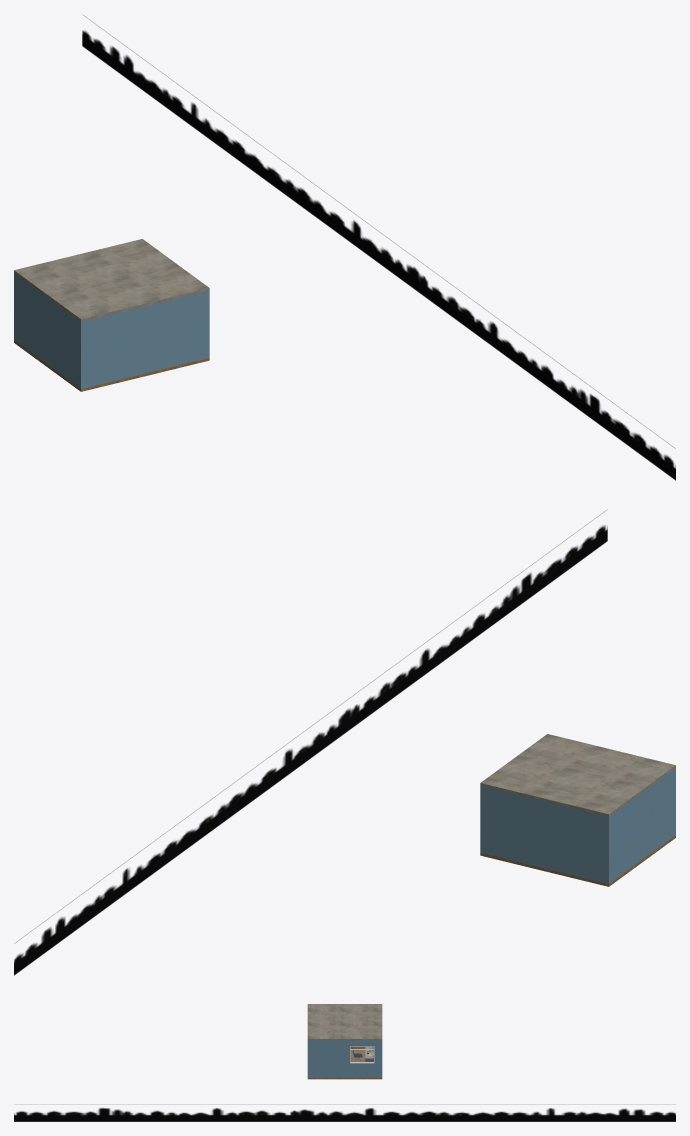
Rendered from bedroom.glb.
3 views of the same model, one above another, from view 1: azimuth 30°, elevation 25°; view 2: azimuth 150°, elevation 25°; view 3: azimuth 270°, elevation 25° (orthographic). The views are drawn at different scales.
Visible parts, largest first — view 1: Skyline, Ceiling, Wall south, Wall west; view 2: Skyline, Ceiling, Wall north, Wall west; view 3: Skyline, Ceiling, Wall east, Wall east.002, Window glass, Floor, Wall east.001.
Boxes of the visible parts, bbox=[...] form: Skyline: bbox=[82, 15, 675, 480]; Ceiling: bbox=[14, 239, 209, 321]; Wall south: bbox=[79, 290, 209, 389]; Wall west: bbox=[15, 274, 79, 387]; Skyline: bbox=[14, 510, 607, 975]; Ceiling: bbox=[480, 734, 675, 816]; Wall north: bbox=[480, 785, 610, 884]; Wall west: bbox=[610, 769, 674, 882]; Skyline: bbox=[14, 1108, 675, 1121]; Ceiling: bbox=[307, 1004, 382, 1040]; Wall east: bbox=[309, 1040, 349, 1077]; Wall east.002: bbox=[350, 1063, 374, 1077]; Window glass: bbox=[351, 1047, 373, 1061]; Floor: bbox=[307, 1050, 382, 1079]; Wall east.001: bbox=[374, 1040, 380, 1077].
Size of the model in its own units: 12.9 by 2.7 by 40.
92 materials, 51 textured.
